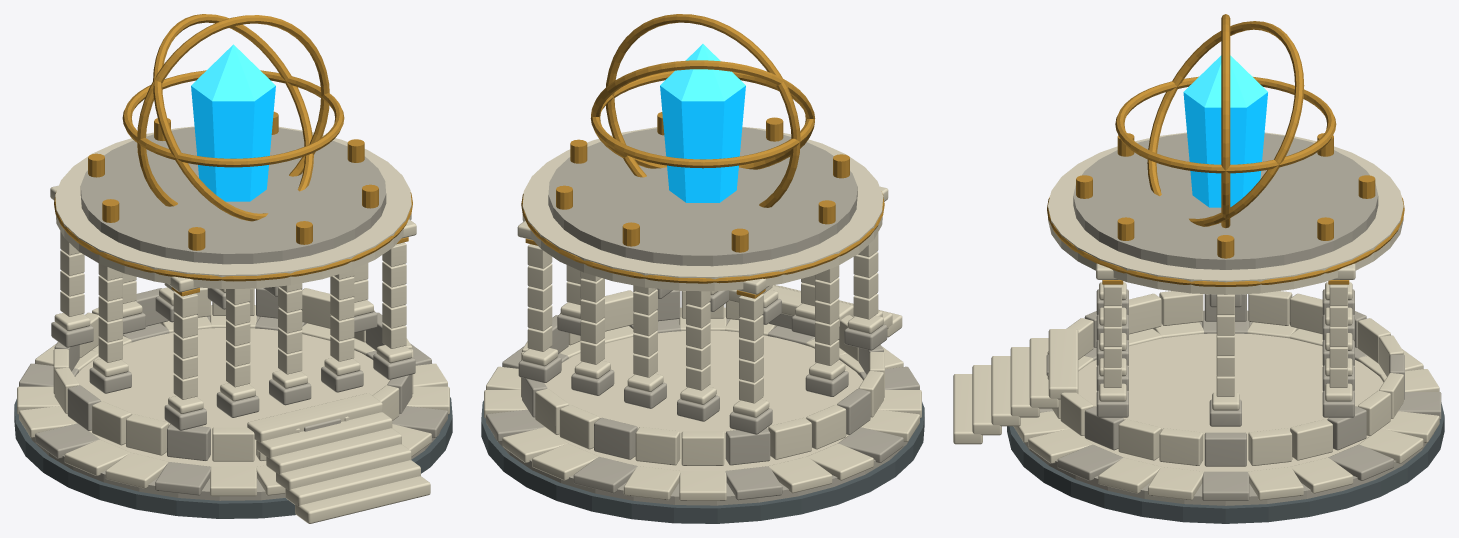
The model's file is OBJ39_crystal_observatory.glb.
The picture shows the model from 3 angles, left to right: view 1: azimuth 30°, elevation 25°; view 2: azimuth 150°, elevation 25°; view 3: azimuth 270°, elevation 25°; orthographic projection.
Parts seen in each view (by area): view 1: Upper ring deck, Paving, Temple cornice, Crystal shaft, Foundation, Armillary orbit.002, Armillary orbit.001, Armillary orbit, Crystal tip, Grand stair.005, Grand stair, Grand stair.004 (+65 smaller); view 2: Upper ring deck, Paving, Temple cornice, Foundation, Crystal shaft, Armillary orbit.001, Armillary orbit.002, Armillary orbit, Crystal tip, Stone platform, Cornice band, Radial stone block.031 (+64 smaller); view 3: Upper ring deck, Paving, Temple cornice, Foundation, Crystal shaft, Armillary orbit.002, Armillary orbit, Crystal tip, Stone platform, Cornice band, Grand stair, Armillary orbit.001 (+40 smaller).
Part boxes in pixels (left/top/right/bottom): Upper ring deck: left=80, top=127, right=386, bottom=264; Paving: left=75, top=328, right=389, bottom=466; Temple cornice: left=55, top=126, right=411, bottom=288; Crystal shaft: left=191, top=86, right=275, bottom=201; Foundation: left=14, top=397, right=452, bottom=518; Armillary orbit.002: left=153, top=14, right=313, bottom=221; Armillary orbit.001: left=137, top=15, right=329, bottom=206; Armillary orbit: left=122, top=70, right=344, bottom=167; Crystal tip: left=191, top=44, right=275, bottom=101; Grand stair.005: left=295, top=476, right=430, bottom=523; Grand stair: left=247, top=393, right=382, bottom=442; Grand stair.004: left=285, top=460, right=420, bottom=506; Upper ring deck: left=548, top=127, right=857, bottom=266; Paving: left=544, top=330, right=862, bottom=470; Temple cornice: left=522, top=126, right=883, bottom=291; Foundation: left=481, top=400, right=924, bottom=523; Crystal shaft: left=660, top=86, right=745, bottom=202; Armillary orbit.001: left=606, top=14, right=800, bottom=207; Armillary orbit.002: left=591, top=60, right=814, bottom=169; Armillary orbit: left=590, top=71, right=815, bottom=168; Crystal tip: left=660, top=44, right=745, bottom=101; Stone platform: left=493, top=319, right=908, bottom=505; Cornice band: left=521, top=191, right=884, bottom=283; Radial stone block.031: left=635, top=427, right=680, bottom=465; Upper ring deck: left=1073, top=133, right=1378, bottom=269; Paving: left=1078, top=333, right=1383, bottom=471; Temple cornice: left=1048, top=132, right=1403, bottom=294; Foundation: left=1007, top=402, right=1444, bottom=523; Crystal shaft: left=1183, top=92, right=1267, bottom=207; Armillary orbit.002: left=1147, top=21, right=1304, bottom=226; Armillary orbit: left=1115, top=76, right=1336, bottom=173; Crystal tip: left=1184, top=55, right=1267, bottom=107; Stone platform: left=1017, top=322, right=1433, bottom=505; Cornice band: left=1047, top=197, right=1404, bottom=286; Grand stair: left=1048, top=329, right=1078, bottom=399; Armillary orbit.001: left=1221, top=14, right=1230, bottom=228.
Bounding box in the file's own units: 6.2 × 6.37 × 6.96.
